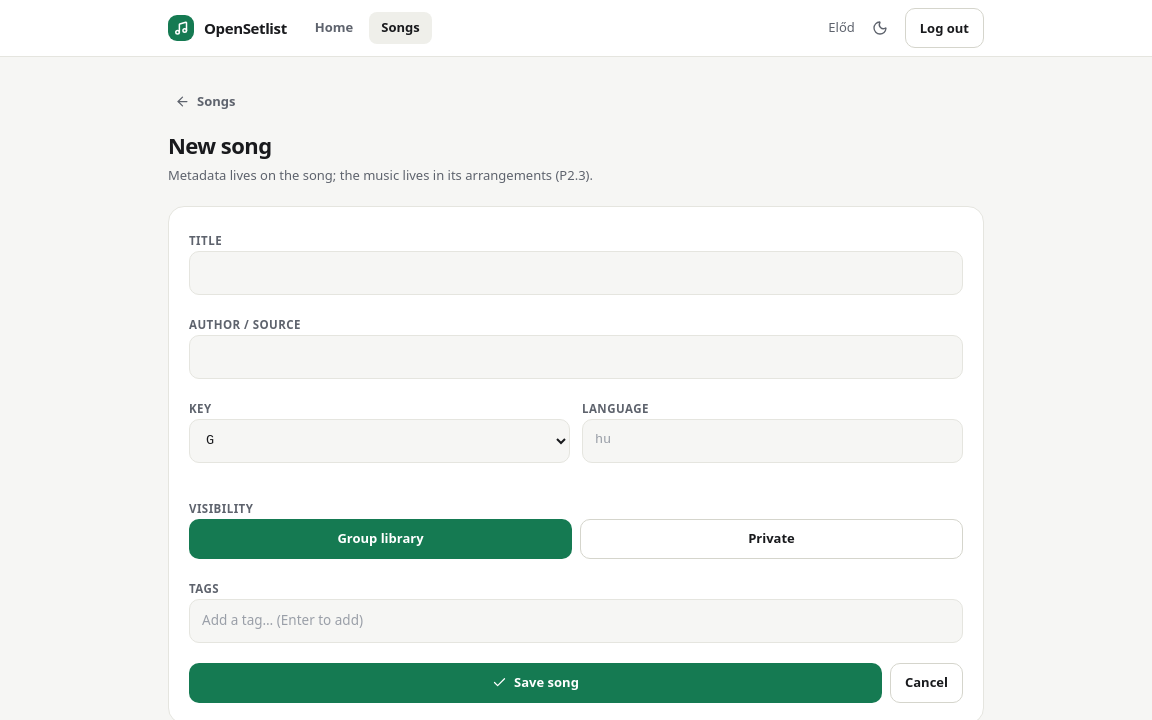
Test: SongFormPage › creates a song and navigates to its detail page
Type "Amazing Grace" into the field labelled "Title" at (576, 272), box [189,250,963,294]
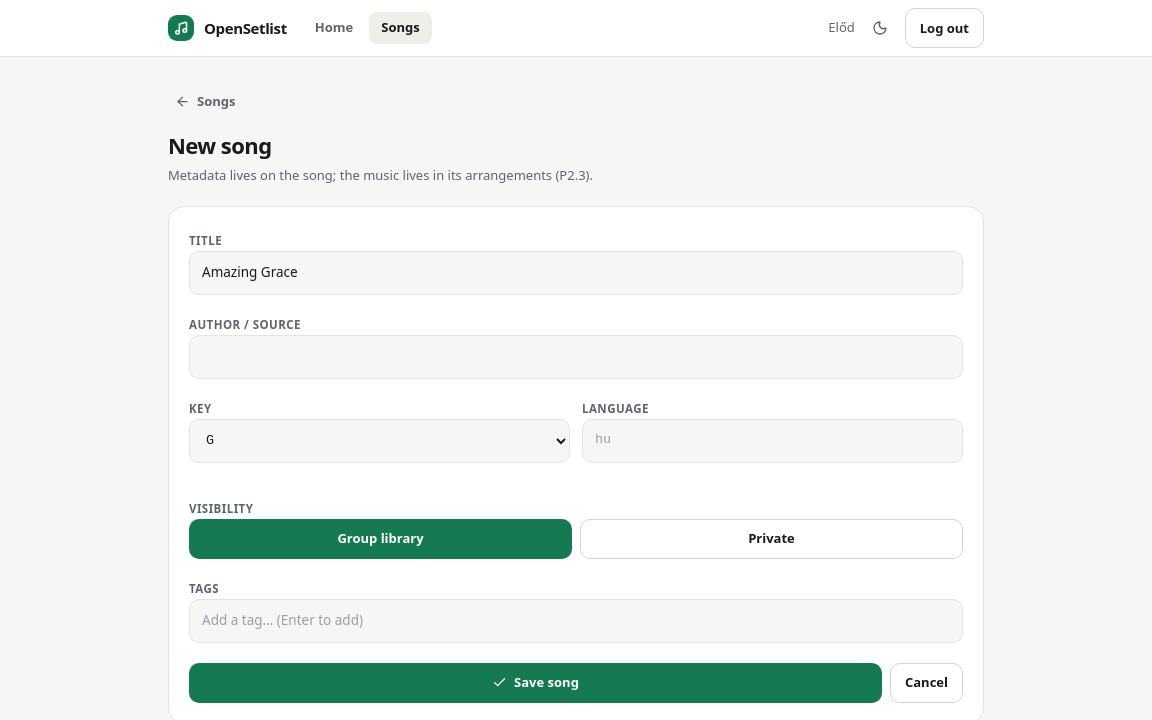
Type "John Newton" into the field labelled "Author / source" at (576, 356), box [189,334,963,378]
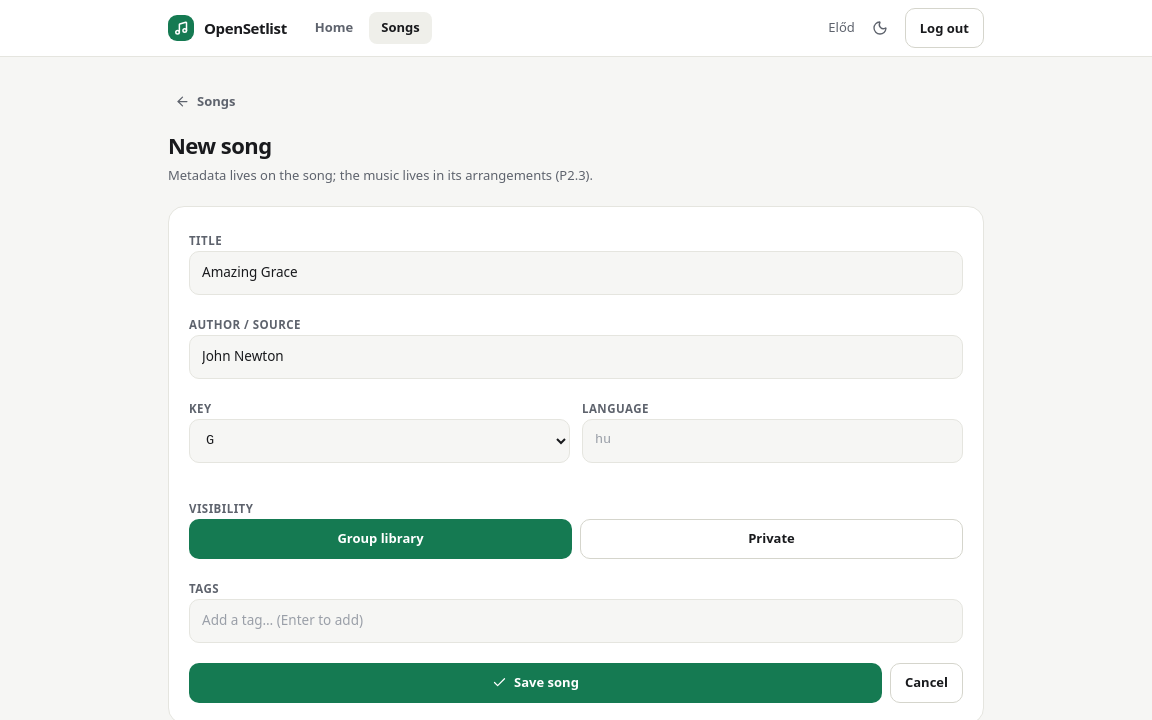
Click the button "Save song" at (536, 682), box [189,662,882,702]
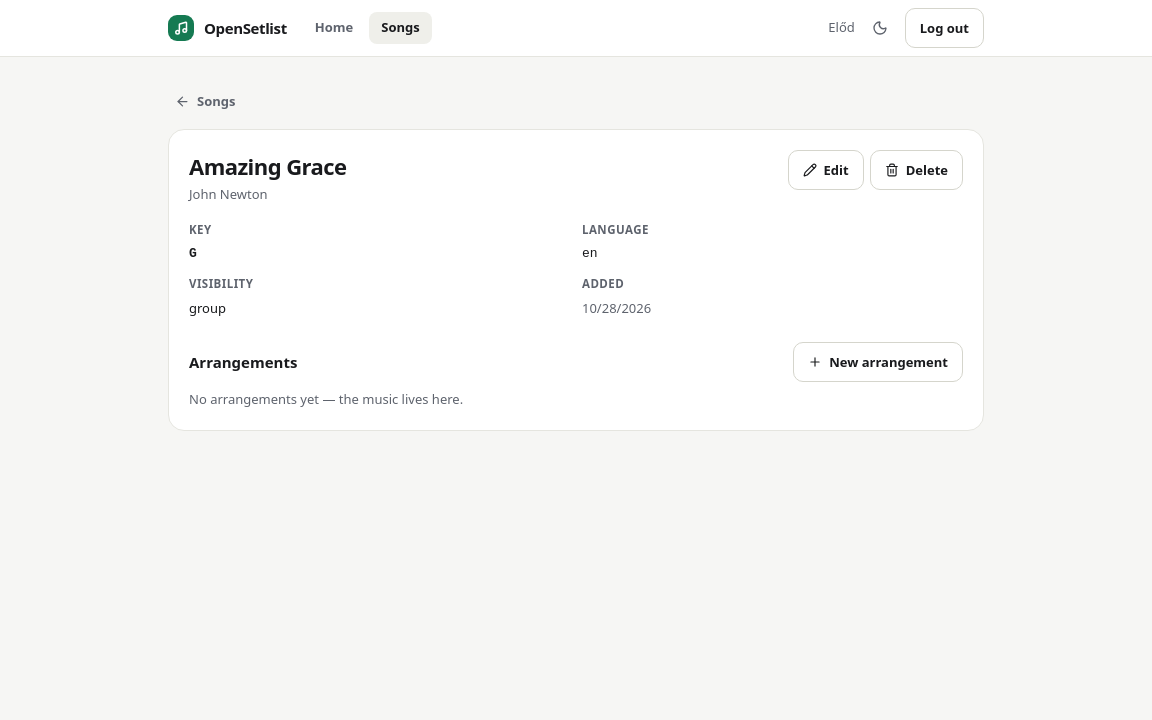
Expected: the heading "Amazing Grace" is shown, [189,150,346,183]
